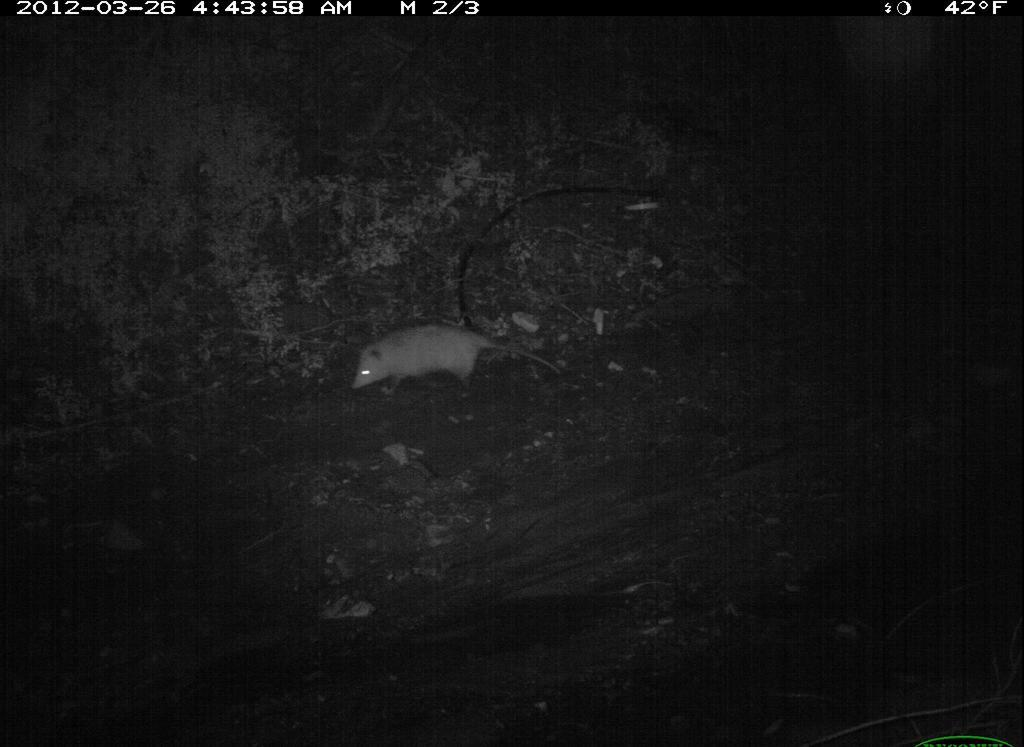opossum: (345, 322, 573, 415)
